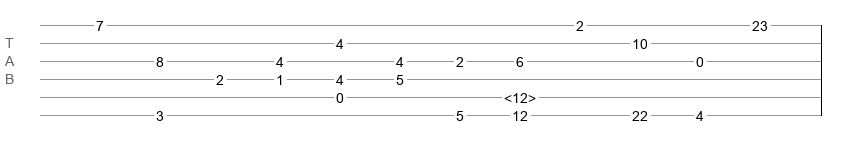0: (336, 90, 344, 100), (696, 54, 704, 64)
1: (276, 72, 284, 82)
10: (632, 36, 648, 46)
12: (512, 108, 528, 118)
2: (216, 72, 224, 82), (456, 54, 464, 64), (576, 18, 584, 28)
22: (632, 108, 648, 118)
23: (752, 18, 768, 28)
3: (156, 108, 164, 118)
4: (276, 54, 284, 64), (336, 36, 344, 46), (336, 72, 344, 82), (396, 54, 404, 64), (696, 108, 704, 118)
5: (396, 72, 404, 82), (456, 108, 464, 118)
6: (516, 54, 524, 64)
7: (96, 18, 104, 28)
8: (156, 54, 164, 64)
harmonic: (504, 90, 536, 100)
